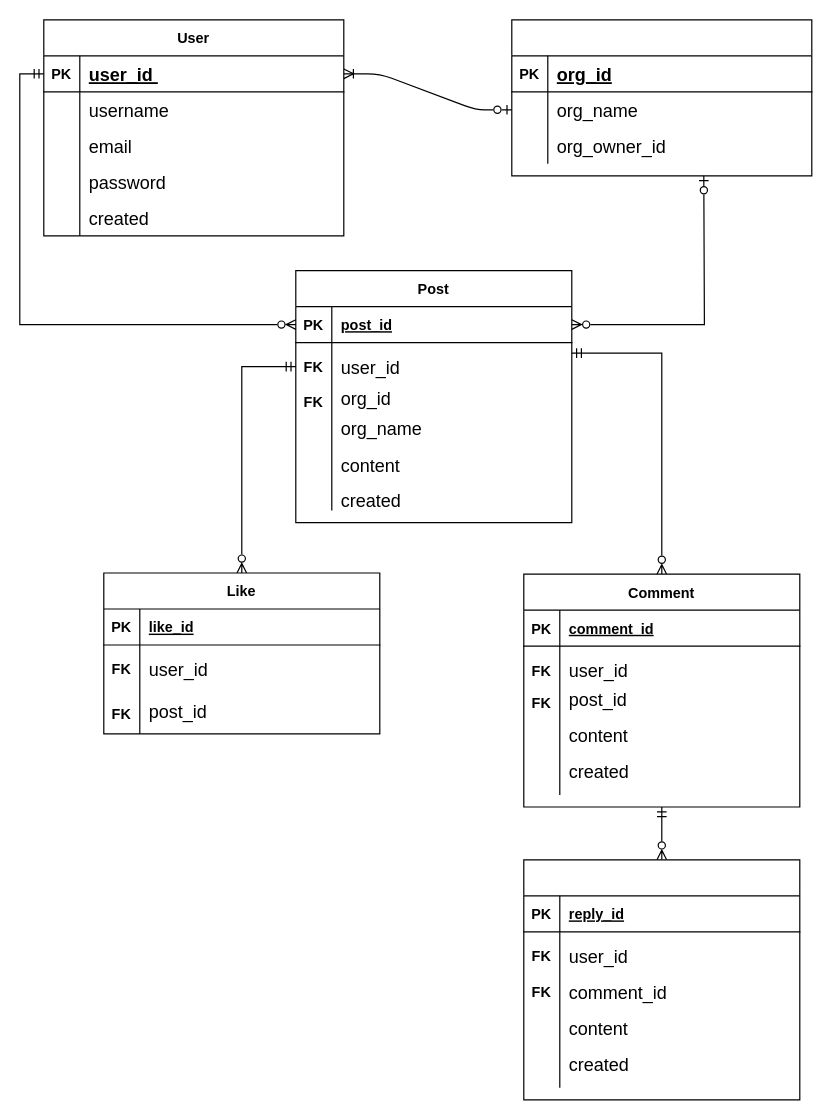
The diagram is 832 pixels wide and 1120 high, and some of its shapes have lost their labels. The box of each missing label's shape, as (x1, y1, x2, y2) in pixels:
Organization: (511, 19, 812, 176)
Replies: (523, 859, 800, 1100)
